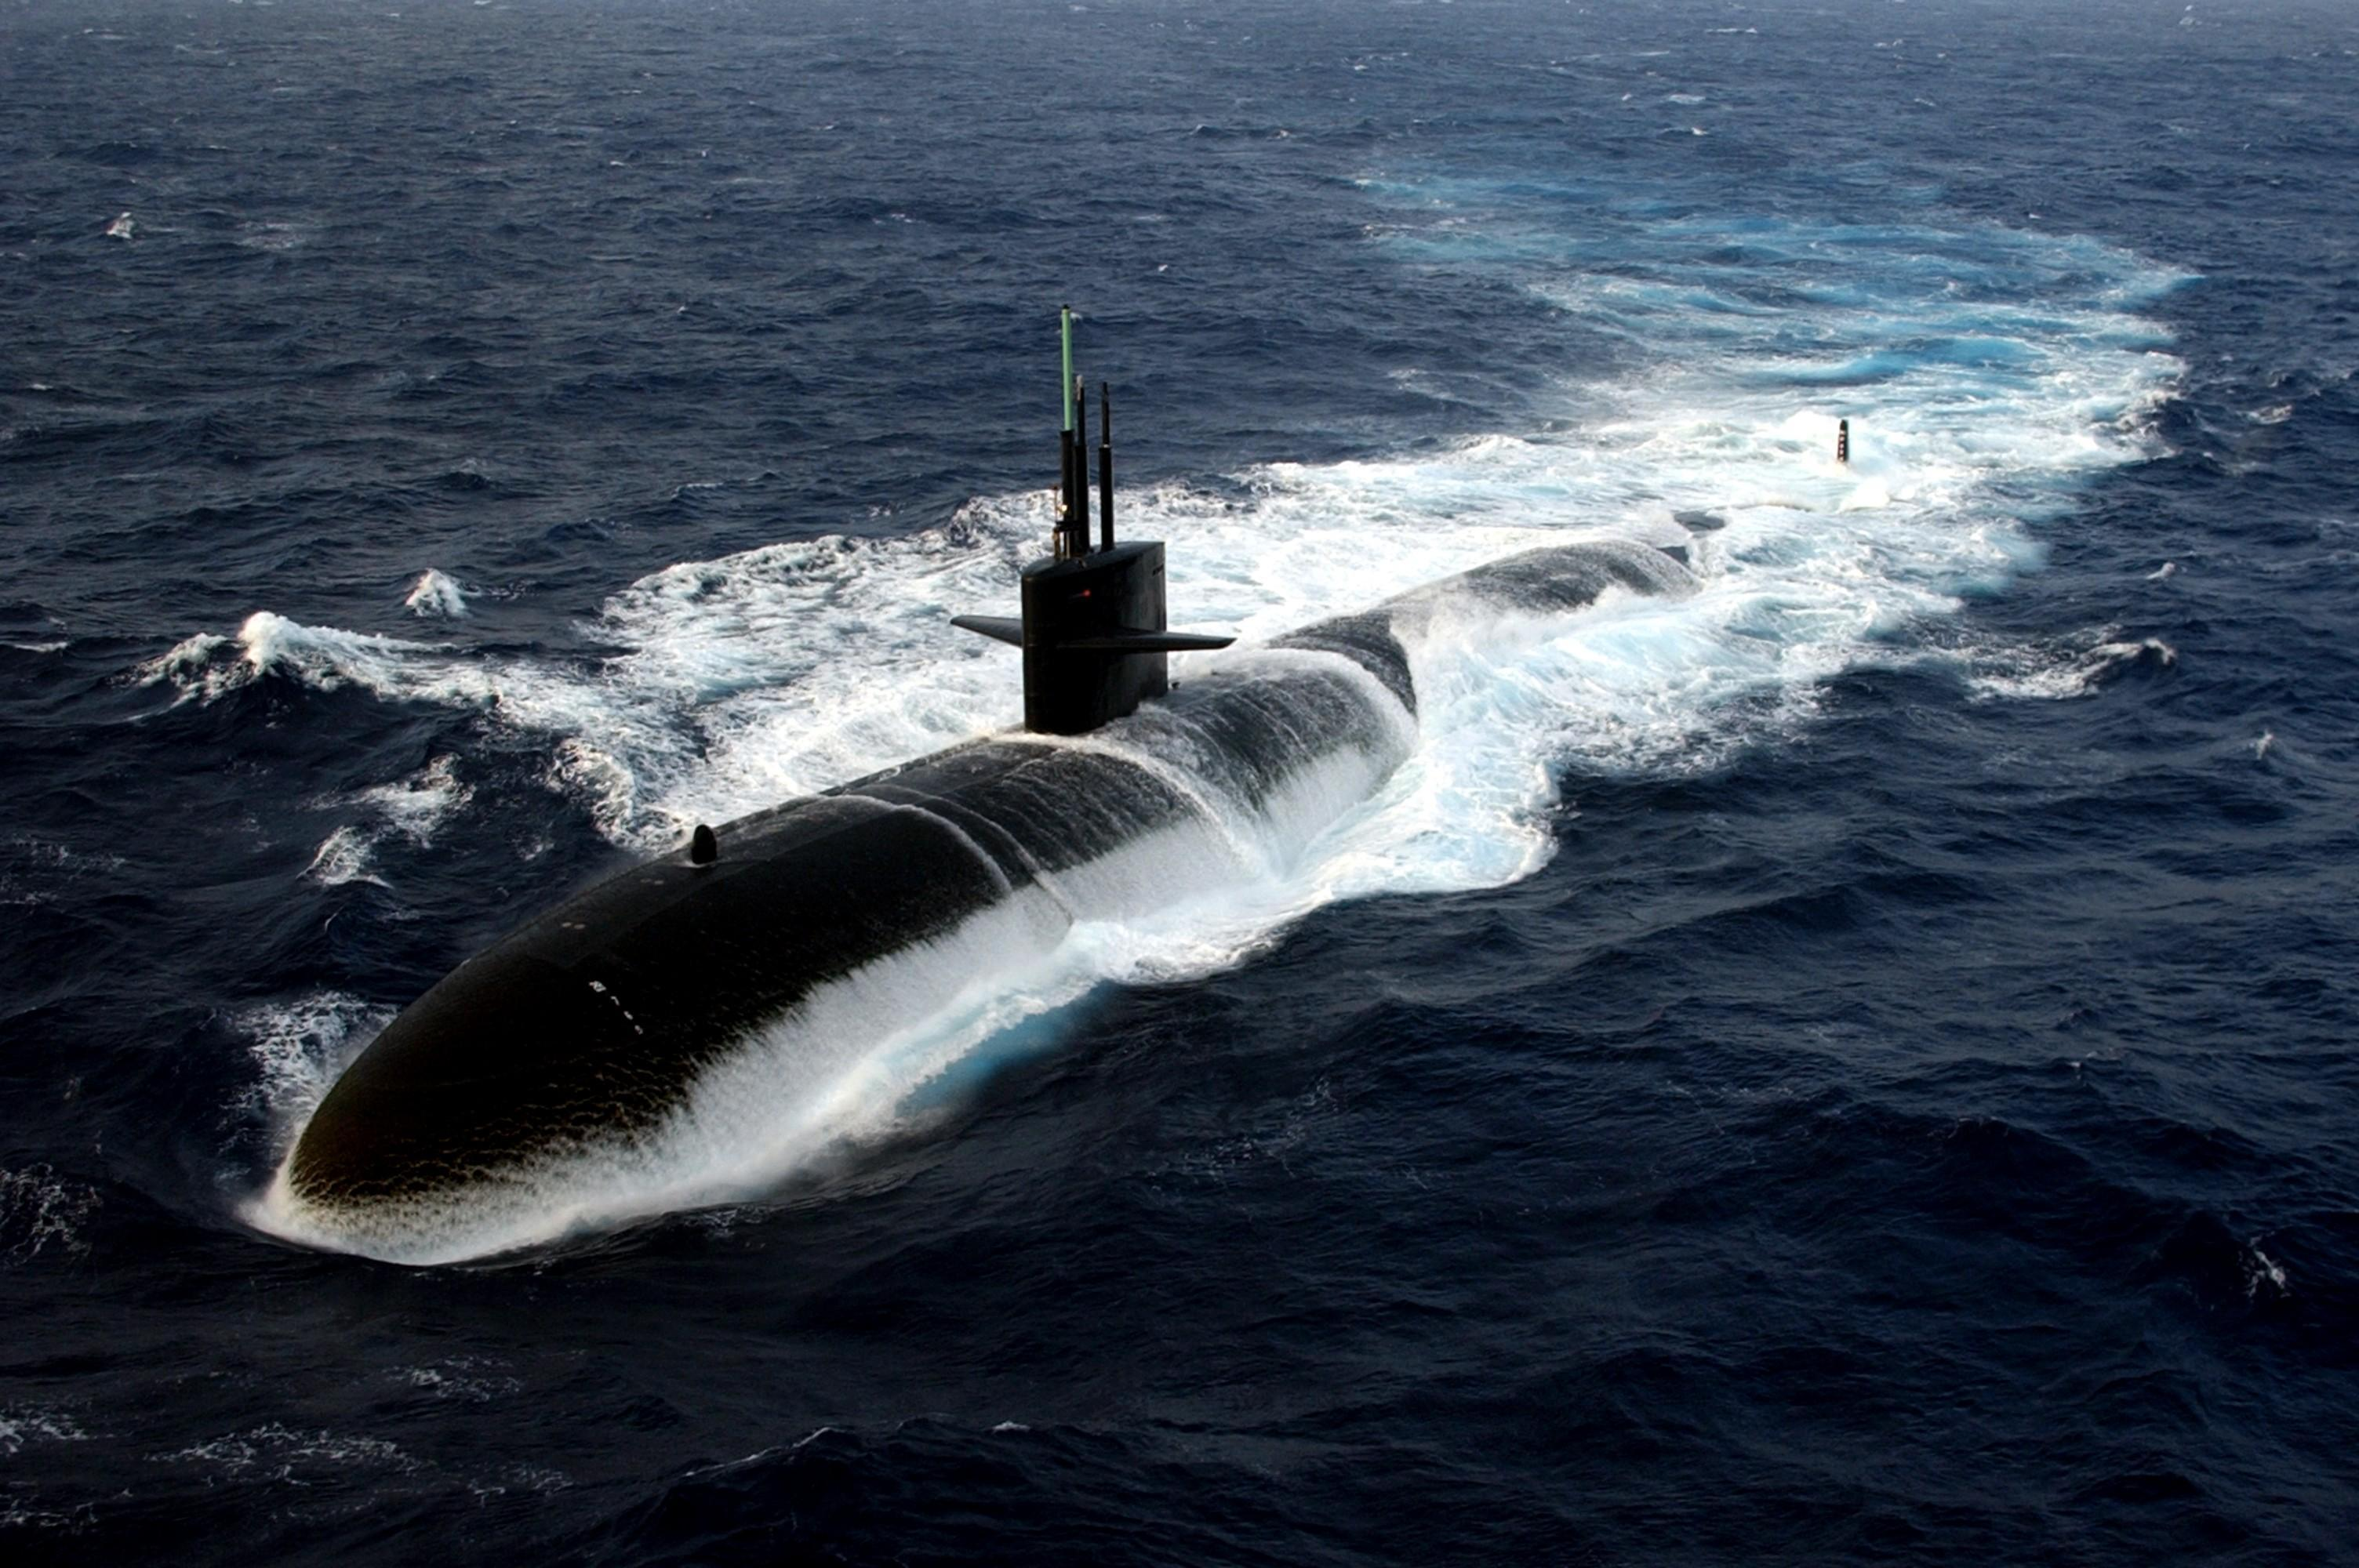Submarine: (164, 165, 2359, 1439)
